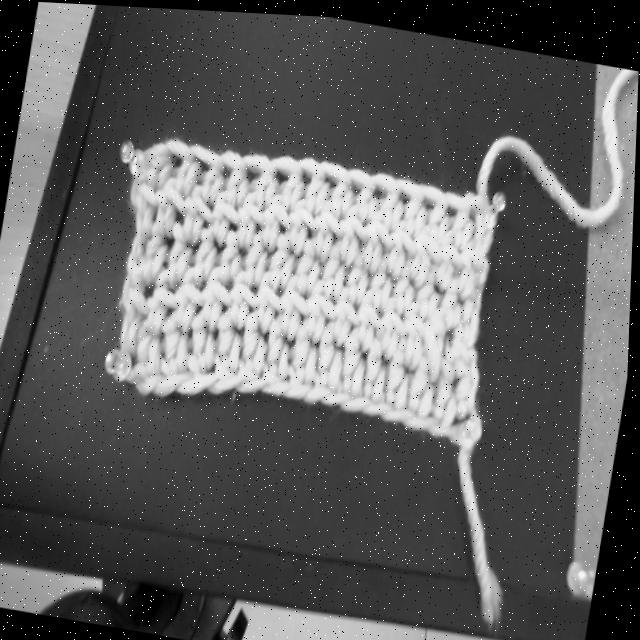ch: (155, 368, 195, 392), (178, 370, 218, 389), (210, 371, 243, 390), (138, 372, 165, 391), (342, 392, 376, 407), (307, 381, 335, 398), (285, 379, 315, 394), (407, 410, 439, 424), (126, 364, 150, 382), (385, 402, 415, 416), (432, 418, 464, 431), (239, 375, 270, 388), (264, 377, 291, 391), (322, 388, 351, 400), (366, 399, 396, 409)
hdc: (143, 138, 195, 186), (443, 183, 482, 239), (395, 173, 428, 235), (241, 149, 278, 203), (203, 259, 231, 329), (187, 144, 223, 198), (296, 152, 330, 209), (176, 265, 205, 330), (372, 167, 403, 227), (386, 330, 411, 404), (320, 155, 352, 212), (307, 276, 335, 341), (149, 266, 176, 332), (381, 289, 408, 354), (361, 216, 394, 269), (409, 231, 443, 282), (271, 153, 304, 205), (267, 318, 296, 374), (421, 179, 450, 234), (232, 266, 259, 325), (294, 233, 322, 289), (283, 270, 307, 334), (241, 314, 267, 373), (269, 227, 295, 285), (416, 257, 442, 315), (221, 145, 250, 196), (435, 356, 458, 420), (258, 267, 282, 328), (122, 261, 149, 315), (216, 320, 245, 370), (348, 164, 375, 217), (319, 325, 343, 383), (156, 185, 185, 233), (344, 326, 366, 389), (360, 283, 382, 346), (169, 220, 191, 283), (145, 222, 168, 282), (246, 222, 267, 287), (336, 279, 358, 341), (164, 324, 193, 371), (293, 324, 319, 376), (218, 225, 243, 279), (183, 194, 213, 239), (365, 334, 386, 398), (410, 350, 434, 406), (405, 307, 427, 367), (263, 198, 291, 245), (426, 304, 445, 373), (136, 179, 158, 238), (370, 247, 393, 303), (450, 316, 476, 365), (238, 201, 266, 246), (345, 248, 368, 302), (315, 209, 342, 255), (387, 226, 415, 270), (457, 355, 481, 406), (323, 239, 344, 297), (213, 200, 242, 241), (194, 222, 215, 277), (341, 213, 365, 261), (194, 324, 217, 372), (439, 269, 460, 320), (396, 254, 415, 310), (290, 205, 314, 249), (141, 330, 165, 373), (457, 241, 476, 295), (123, 302, 142, 353), (176, 153, 201, 191), (435, 242, 456, 284), (462, 283, 481, 329)
